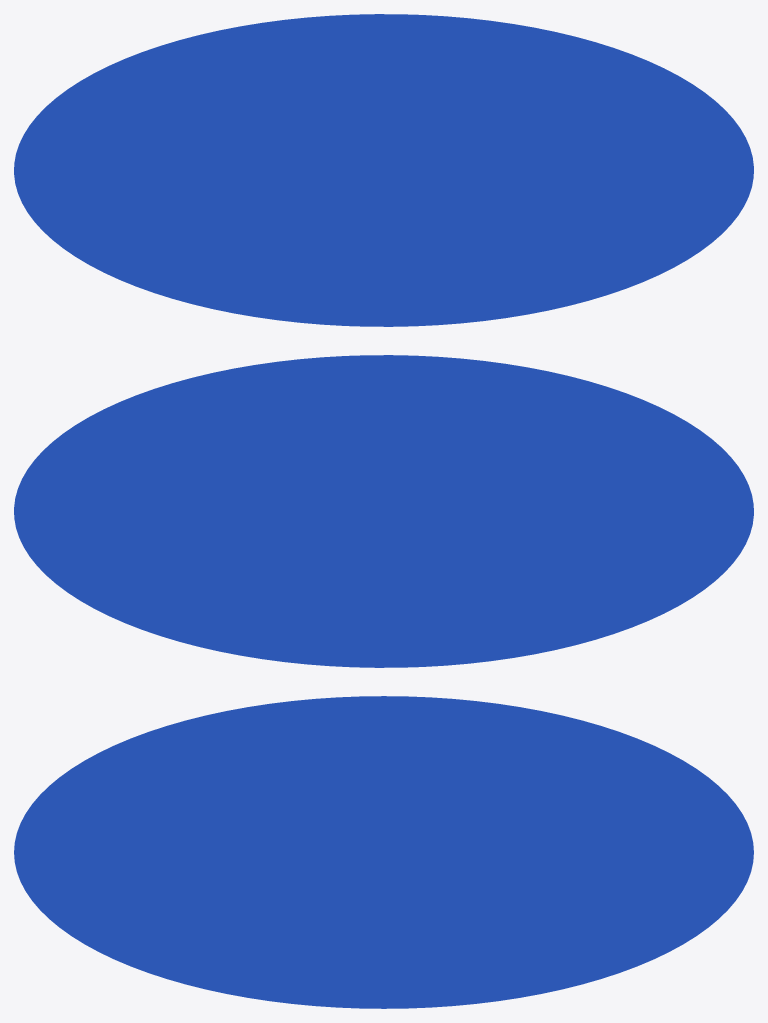
File: event-horizon.dae
3 renders of one model, top to bottom at view 1: azimuth 30°, elevation 25°; view 2: azimuth 150°, elevation 25°; view 3: azimuth 270°, elevation 25°, orthographic.
Parts seen in each view (by area): view 1: Event horizon; view 2: Event horizon; view 3: Event horizon.
Part boxes in pixels (x1,y1,x2,y2): Event horizon: (14,14,753,326); Event horizon: (14,355,753,667); Event horizon: (14,696,753,1008).
Size of the model in its own units: 5.62 by 5.62 by 0.
